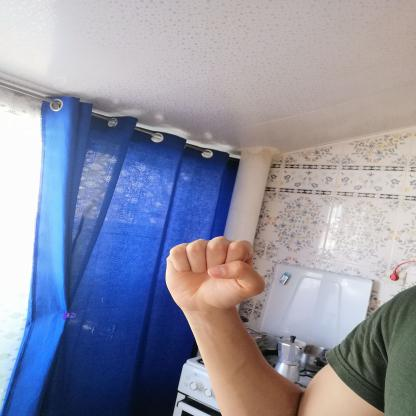SAD: (152, 226, 280, 323)
